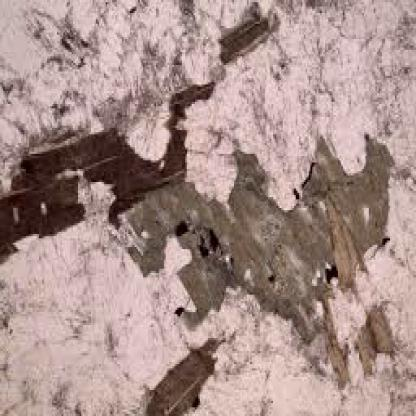Igneous_Diorite: (1, 4, 413, 414)
